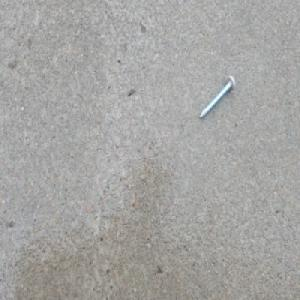Nail: (198, 72, 235, 120)
